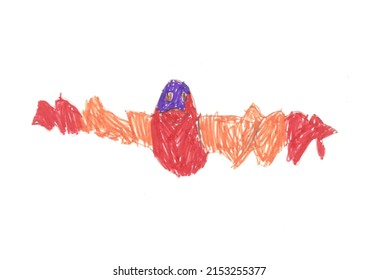bird: (25, 77, 339, 178)
